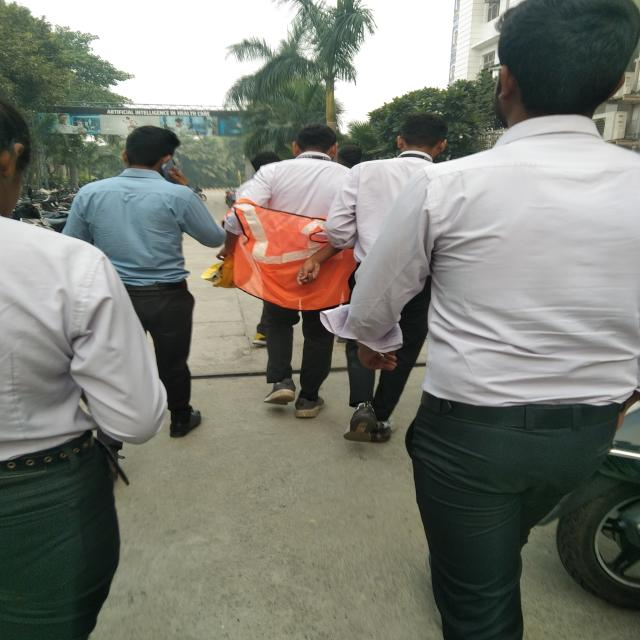unsafe: (329, 0, 640, 640), (0, 100, 162, 640), (72, 126, 222, 440), (212, 125, 366, 422), (329, 111, 450, 449)
